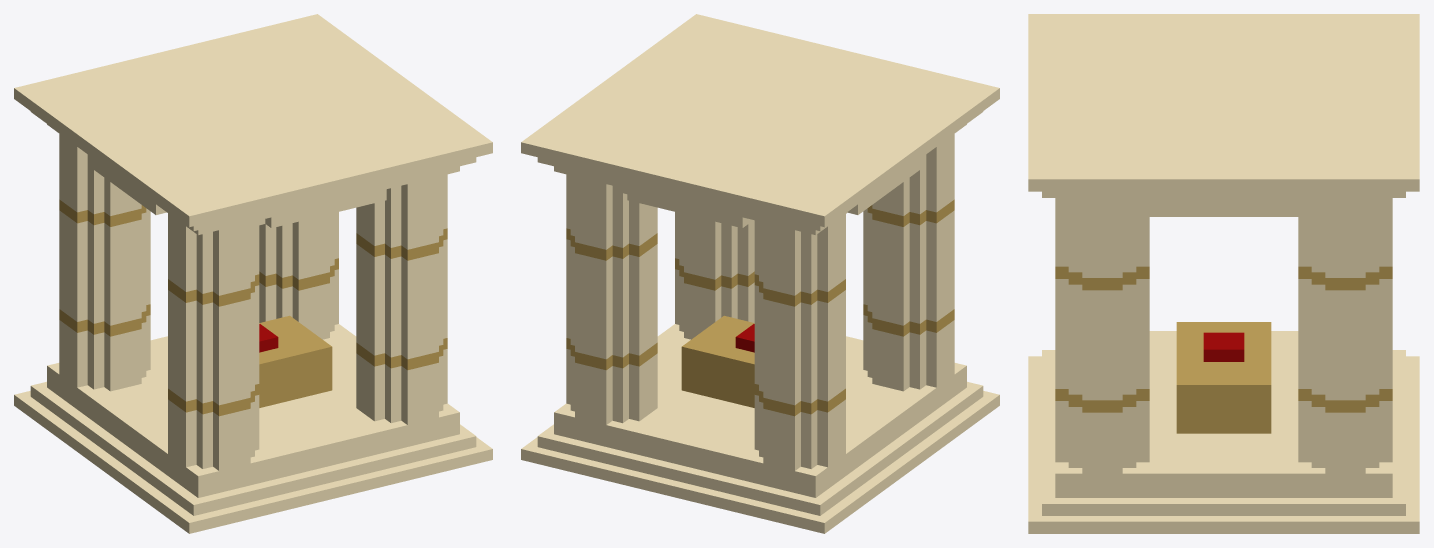
Rendered from eighteenthModel.fbx.
3 renders of one model, left to right at view 1: azimuth 30°, elevation 25°; view 2: azimuth 150°, elevation 25°; view 3: azimuth 270°, elevation 25°, orthographic. The views are drawn at different scales.
Parts seen in each view (by area): view 1: Box; view 2: Box; view 3: Box.
Part boxes in pixels (x1,y1,x2,y2): Box: (14,14,492,533); Box: (521,14,999,533); Box: (1028,14,1419,533).
Bounding box in the file's own units: 29 × 29 × 29.
Materials: 1 (1 with a texture image).
